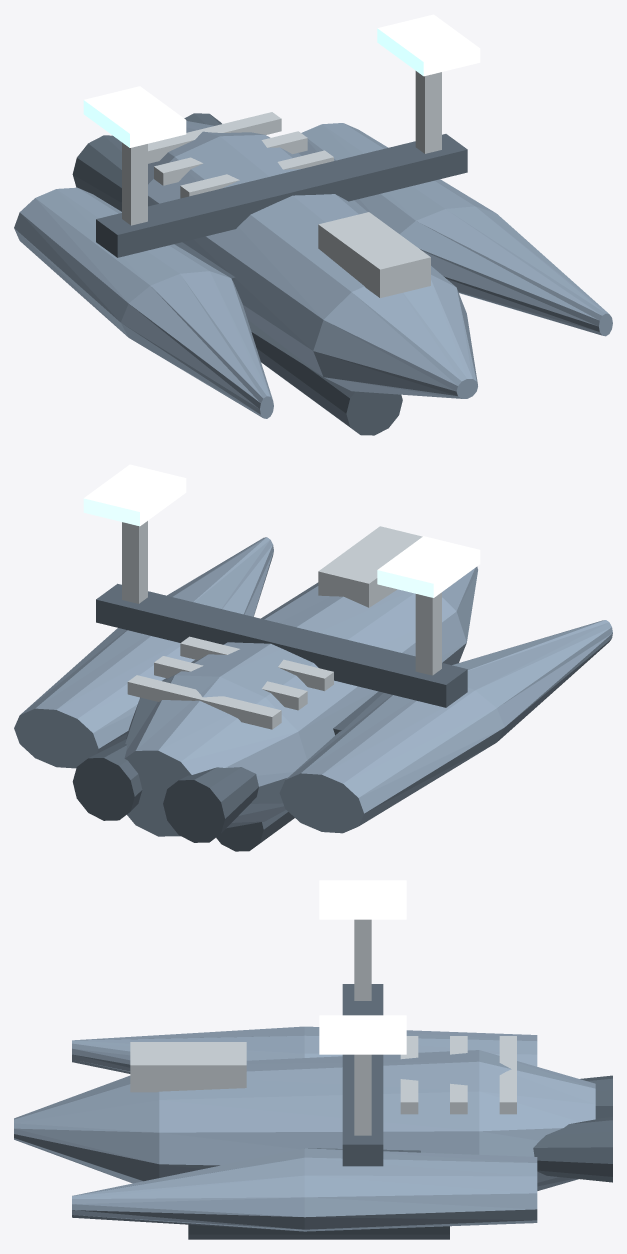
3 views of the same model, one above another, from view 1: azimuth 30°, elevation 25°; view 2: azimuth 150°, elevation 25°; view 3: azimuth 270°, elevation 25° (orthographic). The views are drawn at different scales.
Bounding box in the file's own units: 2.61 × 1.91 × 3.75.
